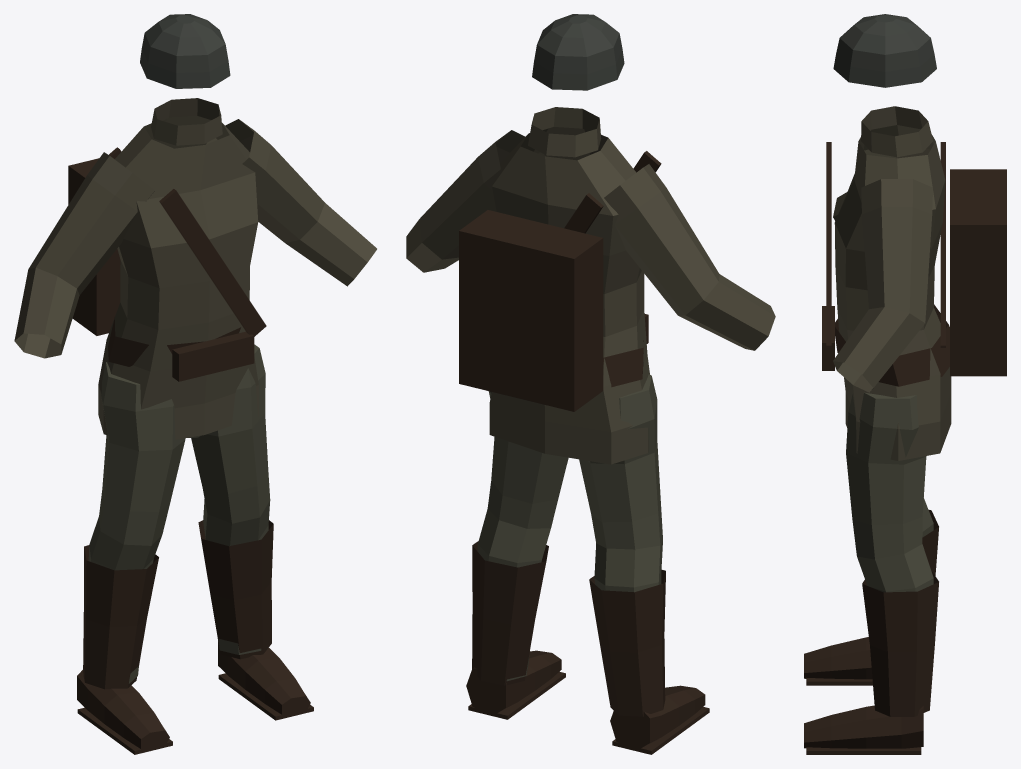
The model's file is tenue_marley_soldat_lod1.glb.
3 views of the same model, side by side, from view 1: azimuth 30°, elevation 25°; view 2: azimuth 150°, elevation 25°; view 3: azimuth 270°, elevation 25° (orthographic). The views are drawn at different scales.
Visible parts, largest first — view 1: spine_02, thigh_r, calf_r, calf_l, upperarm_r, thigh_l, pelvis, head, upperarm_l, foot_r, lowerarm_r, foot_l (+2 smaller); view 2: spine_02, calf_r, calf_l, upperarm_r, thigh_r, pelvis, head, thigh_l, upperarm_l, lowerarm_r, foot_r, foot_l (+2 smaller); view 3: spine_02, thigh_l, calf_l, upperarm_l, head, foot_l, pelvis, lowerarm_l, foot_r, neck_01, calf_r.
Part boxes in pixels (x1,y1,x2,y2): spine_02: (68,116,266,409); thigh_r: (99,362,185,545); calf_r: (83,517,161,689); calf_l: (198,499,273,659); upperarm_r: (28,152,154,294); thigh_l: (191,344,270,523); pelvis: (98,317,258,439); head: (140,14,230,88); upperarm_l: (206,119,324,243); foot_r: (77,669,172,754); lowerarm_r: (14,267,79,358); foot_l: (218,641,313,720); spine_02: (459,127,661,432); calf_r: (589,540,665,716); calf_l: (472,509,550,685); upperarm_r: (604,164,719,315); thigh_r: (579,374,662,549); pelvis: (489,314,648,464); head: (532,14,624,90); thigh_l: (487,391,568,528); upperarm_l: (419,130,544,259); lowerarm_r: (678,274,775,350); foot_r: (610,685,709,754); foot_l: (466,650,565,719); spine_02: (826,125,1006,428); thigh_l: (846,392,926,559); calf_l: (857,544,938,716); upperarm_l: (861,179,932,322); head: (833,14,936,87); foot_l: (804,705,923,754); pelvis: (822,304,951,460); lowerarm_l: (833,307,924,392); foot_r: (804,637,872,685); neck_01: (861,106,932,157); calf_r: (922,498,938,575).
Size of the model in its own units: 0.9516 by 1.74 by 0.462.
